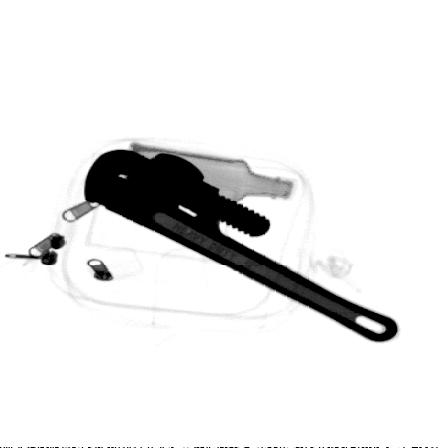Wrench: (81, 147, 399, 344)
